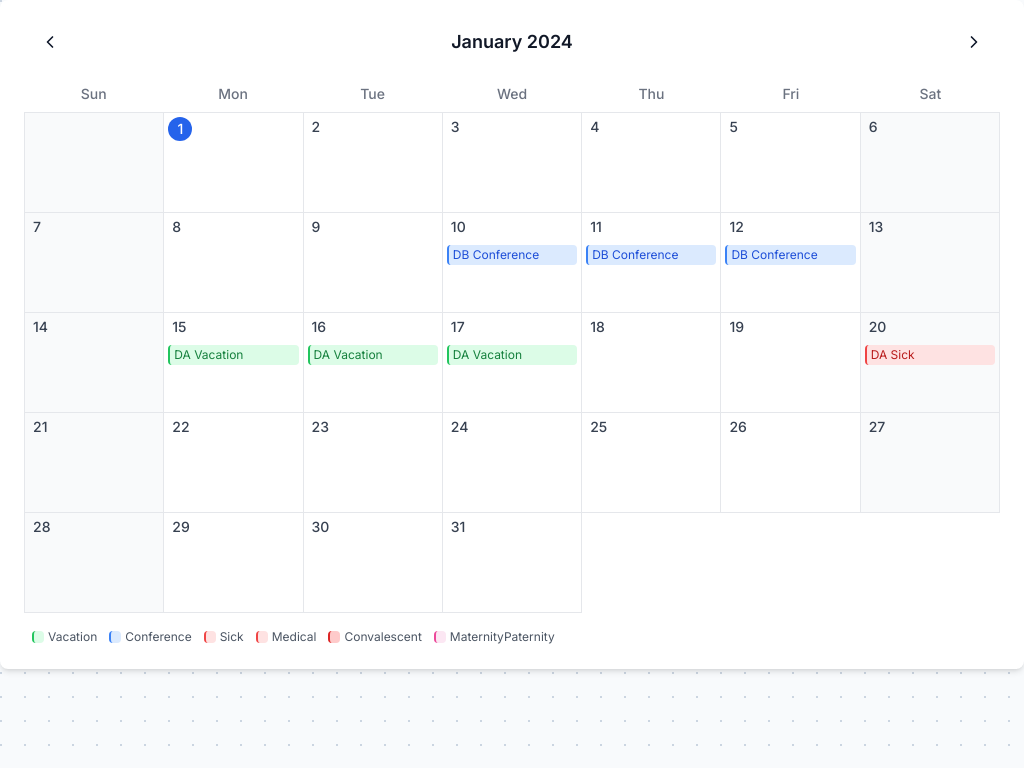
Test case: BlockCalendar (AbsenceCalendar) › Navigation › should navigate to next month
Expected: the heading "January 2024" is shown, x1=451 y1=28 x2=573 y2=56
Click the button named "Next month" at [974, 42], box x1=956 y1=24 x2=992 y2=60
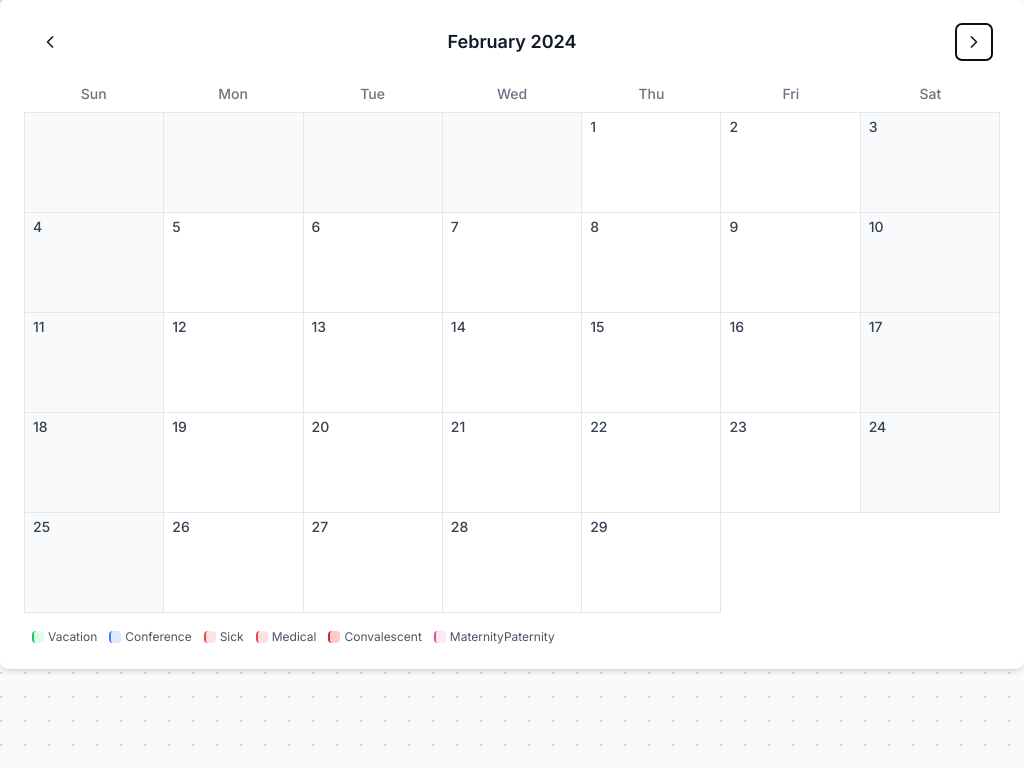
Expected: the heading "February 2024" is shown, x1=448 y1=28 x2=576 y2=56
